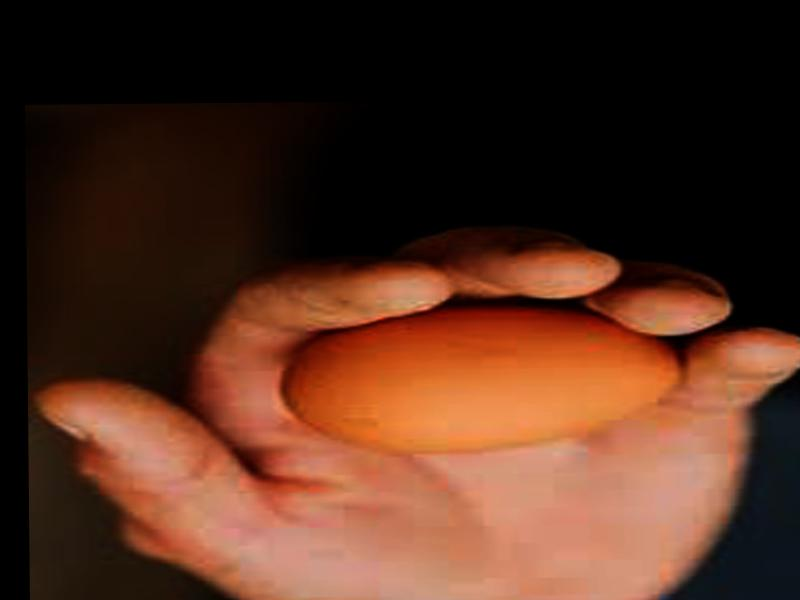Eggs: (285, 307, 684, 453)
